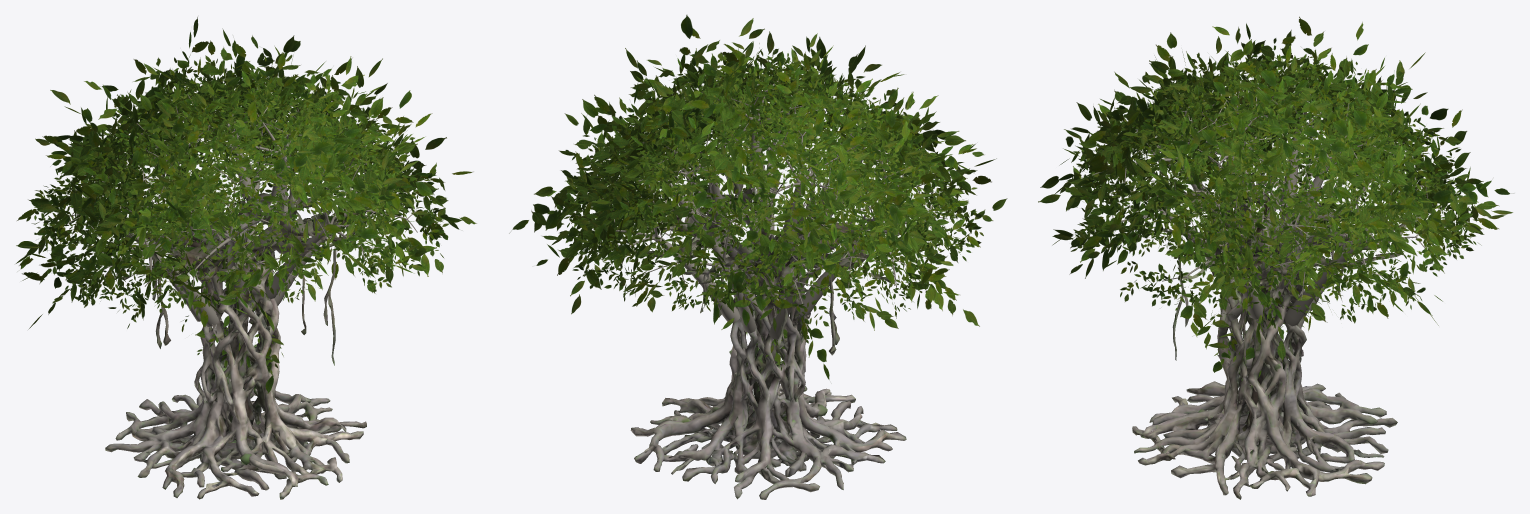
Rendered from strangler_fig.glb.
3 views of the same model, side by side, from view 1: azimuth 30°, elevation 25°; view 2: azimuth 150°, elevation 25°; view 3: azimuth 270°, elevation 25° (orthographic). The views are drawn at different scales.
Parts seen in each view (by area): view 1: lod1_leaves, lod0_leaves, lod0; view 2: lod1_leaves, lod0_leaves, lod0; view 3: lod1_leaves, lod0_leaves, lod0.
Boxes of the visible parts, bbox=[...] form: lod1_leaves: bbox=[16, 17, 476, 393]; lod0_leaves: bbox=[26, 55, 448, 376]; lod0: bbox=[64, 92, 417, 499]; lod1_leaves: bbox=[509, 15, 1007, 379]; lod0_leaves: bbox=[547, 43, 983, 370]; lod0: bbox=[593, 81, 947, 499]; lod1_leaves: bbox=[1038, 16, 1512, 377]; lod0_leaves: bbox=[1065, 38, 1481, 365]; lod0: bbox=[1092, 69, 1445, 499].
Size of what is drawn, in the model's own units: 9.87 by 8.95 by 9.39.
2 materials, 2 textured.
